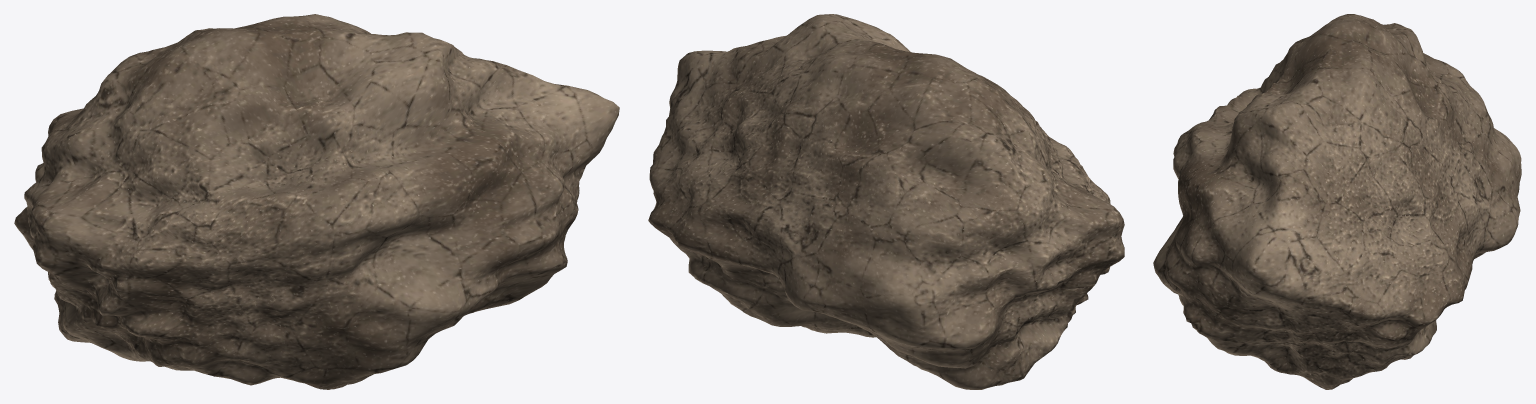
File: asteroid-04.glb
3 renders of one model, left to right at view 1: azimuth 30°, elevation 25°; view 2: azimuth 150°, elevation 25°; view 3: azimuth 270°, elevation 25°, orthographic. The views are drawn at different scales.
Parts seen in each view (by area): view 1: asteroid-04; view 2: asteroid-04; view 3: asteroid-04.
Boxes of the visible parts, bbox=[...] form: asteroid-04: bbox=[14, 14, 619, 389]; asteroid-04: bbox=[648, 14, 1124, 389]; asteroid-04: bbox=[1153, 14, 1521, 389].
Bounding box in the file's own units: 2.96 × 1.78 × 2.02.
1 material, 1 textured.
